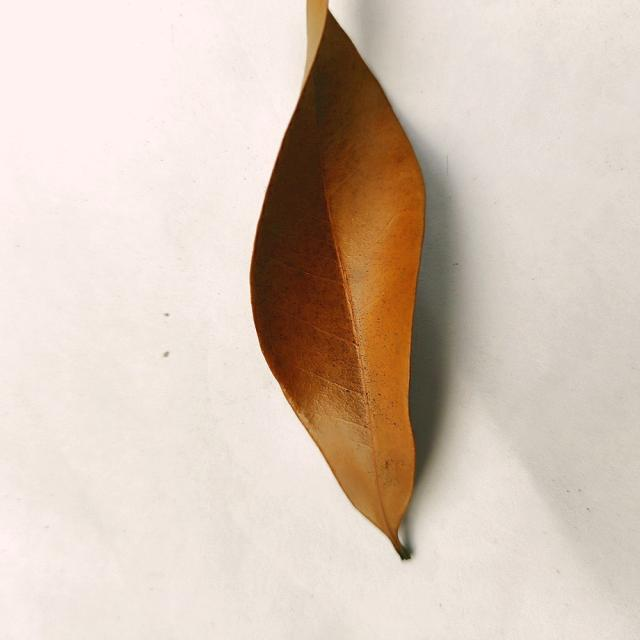Dry_Leaf-Lychee: (249, 14, 427, 560)
